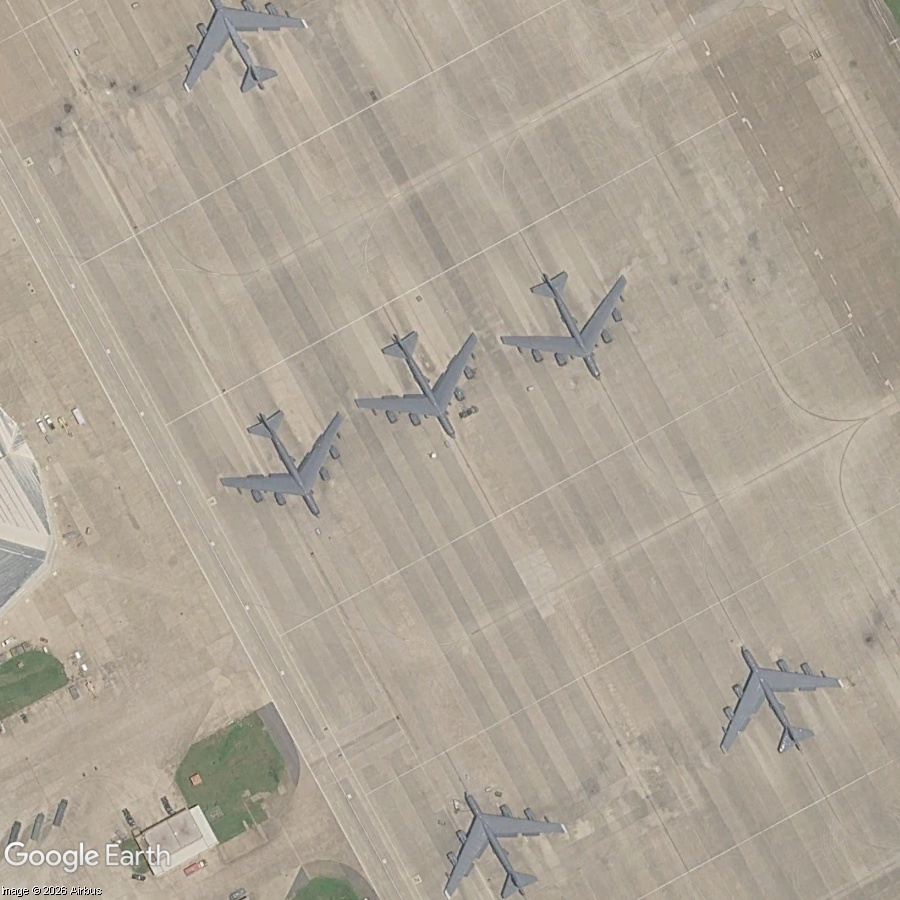Máy bay ném bom: (194, 372, 385, 556), (677, 607, 867, 789), (478, 235, 668, 417), (331, 295, 520, 477), (402, 753, 589, 900), (144, 0, 330, 128)
